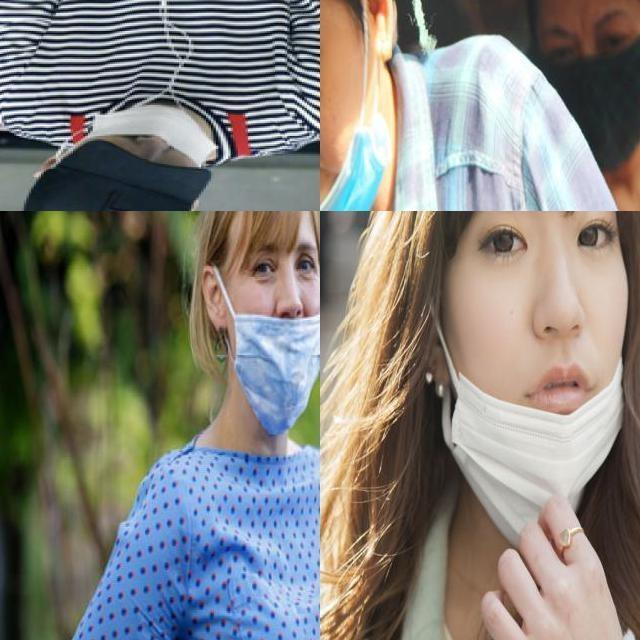hairnet: (427, 282, 626, 536), (226, 286, 319, 435), (93, 102, 213, 174)
